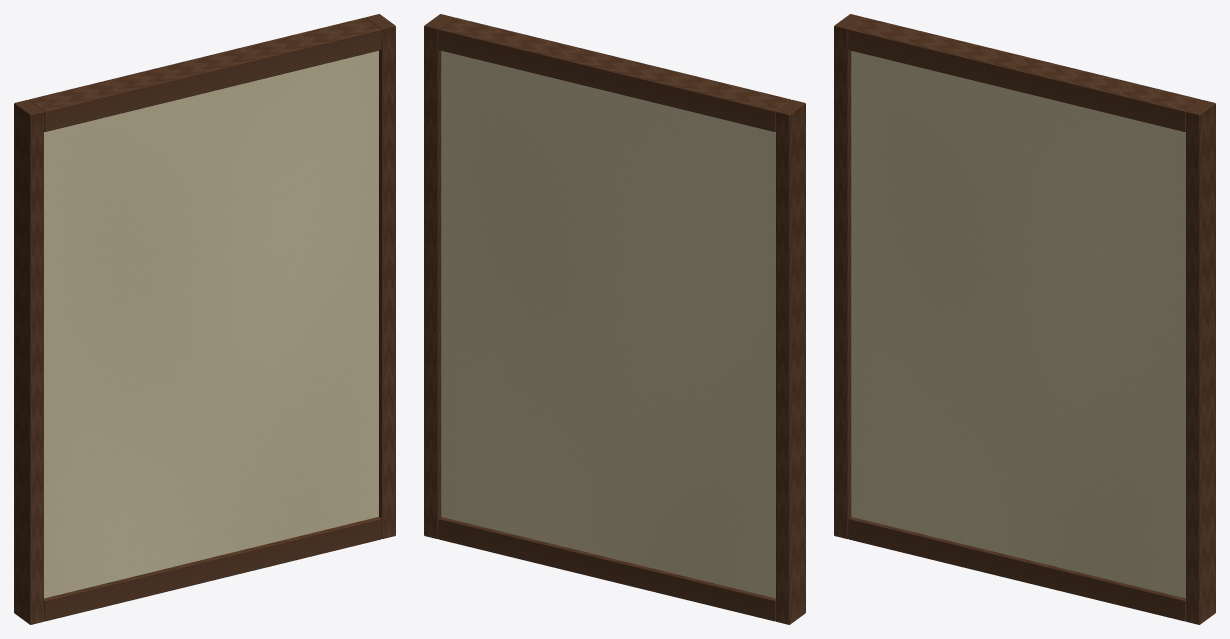
The model's file is plaster_wall.glb.
The picture shows the model from 3 angles, left to right: view 1: azimuth 30°, elevation 25°; view 2: azimuth 150°, elevation 25°; view 3: azimuth 330°, elevation 25°; orthographic projection.
Parts seen in each view (by area): view 1: plaster_wall; view 2: plaster_wall; view 3: plaster_wall.
Part boxes in pixels (bbox=[...]): plaster_wall: bbox=[14, 14, 395, 624]; plaster_wall: bbox=[424, 14, 805, 624]; plaster_wall: bbox=[834, 14, 1215, 624].
Bounding box in the file's own units: 1.8 × 2.4 × 0.14.
2 materials, 2 textured.
